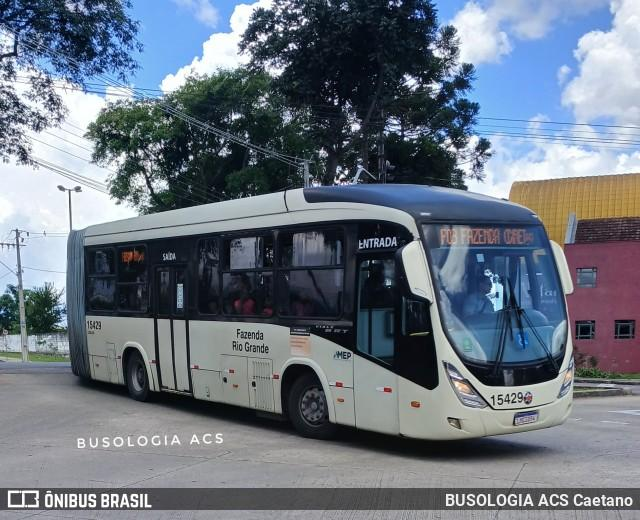FAZENDA: (457, 226, 505, 248)
